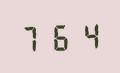four: (73, 19, 99, 50)
seven: (18, 22, 44, 53)
six: (46, 20, 72, 52)
